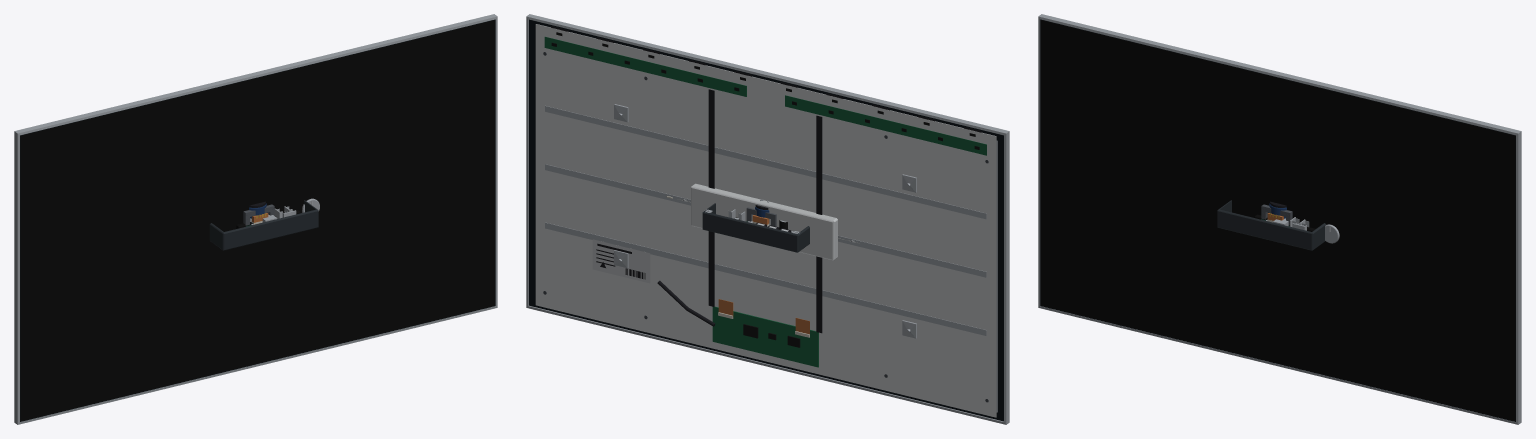
File: electronica.glb
3 renders of one model, left to right at view 1: azimuth 30°, elevation 25°; view 2: azimuth 150°, elevation 25°; view 3: azimuth 330°, elevation 25°, orthographic.
Visible parts, largest first — view 1: pantalla@panel, unidad_laser; view 2: retroiluminacion, pantalla@panel, panel, unidad_laser; view 3: pantalla@panel, unidad_laser.
Boxes of the visible parts, x1,y1,x2,y2 form: pantalla@panel: [14, 14, 497, 424]; unidad_laser: [209, 200, 318, 250]; retroiluminacion: [535, 24, 996, 417]; pantalla@panel: [526, 14, 1009, 424]; panel: [691, 183, 837, 260]; unidad_laser: [702, 203, 809, 252]; pantalla@panel: [1038, 14, 1521, 424]; unidad_laser: [1217, 200, 1326, 250].
Bounding box in the file's own units: 100 × 58 × 12.
